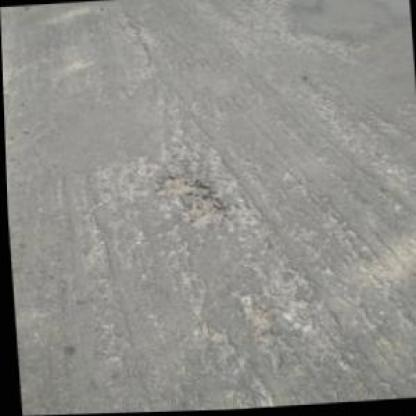pothole: (152, 170, 228, 235)
